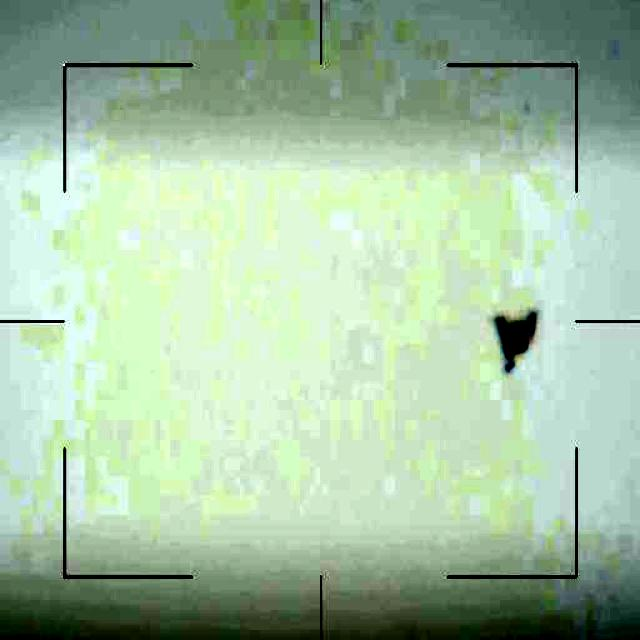bird: (488, 304, 544, 376)
